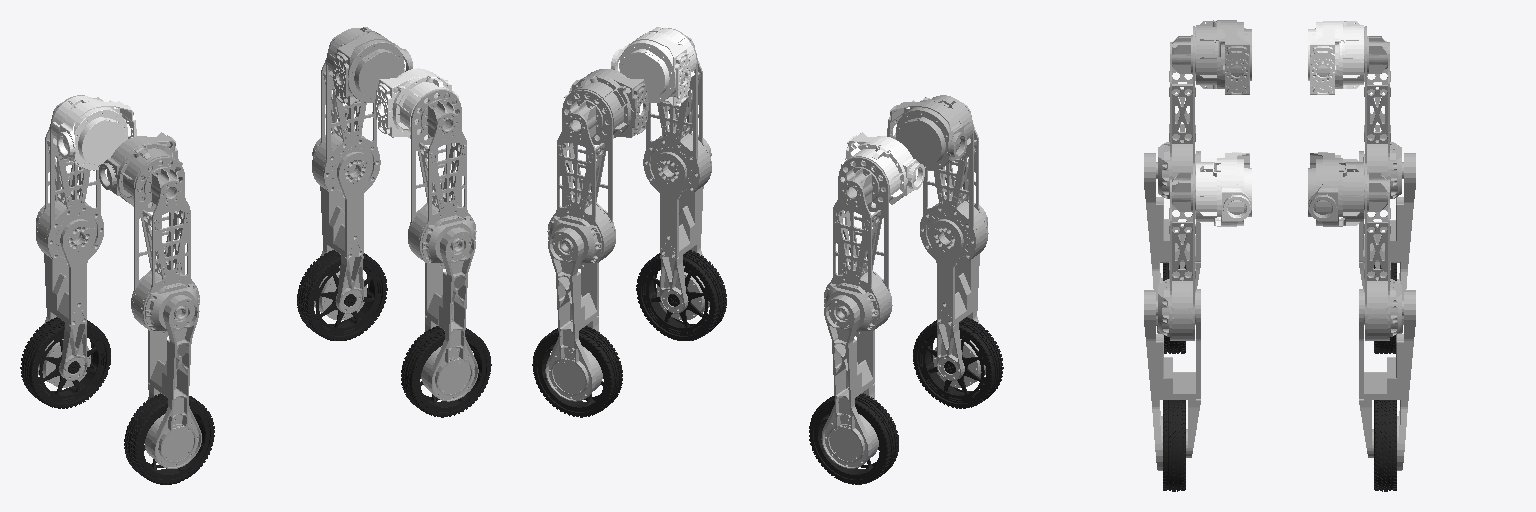
robot.urdf — y1v1h_description:
<?xml version="1.0" ?>
<!-- =================================================================================== -->
<!-- |    This document was autogenerated by xacro from src/robot_descriptions/y1v1h_description/xacro/robot.xacro | -->
<!-- |    EDITING THIS FILE BY HAND IS NOT RECOMMENDED                                 | -->
<!-- =================================================================================== -->
<robot name="y1v1h_description">

  <material name="black">
    <color rgba="0.19607843137254902 0.19607843137254902 0.19607843137254902 1.0"/>
  </material>
  <material name="blue">
    <color rgba="0.0 0.0 0.8 1.0"/>
  </material>
  <material name="green">
    <color rgba="0.0 0.8 0.0 1.0"/>
  </material>
  <material name="grey">
    <color rgba="0.2 0.2 0.2 1.0"/>
  </material>
  <material name="silver">
    <color rgba="0.9137254901960784 0.9137254901960784 0.8470588235294118 1.0"/>
  </material>
  <material name="orange">
    <color rgba="1.0 0.4235294117647059 0.0392156862745098 1.0"/>
  </material>
  <material name="brown">
    <color rgba="0.8705882352941177 0.8117647058823529 0.7647058823529411 1.0"/>
  </material>
  <material name="red">
    <color rgba="0.8 0.0 0.0 1.0"/>
  </material>
  <material name="white">
    <color rgba="1.0 1.0 1.0 1.0"/>
  </material>
  <link name="base_link">
    <visual>
      <origin rpy="0 0 0" xyz="0 0 0"/>
      <geometry>
        <box size="0.001 0.001 0.001"/>
      </geometry>
    </visual>
    <inertial>
      <mass value="0.001"/>
      <origin rpy="0 0 0" xyz="0 0 0"/>
      <inertia ixx="0.0001" ixy="0" ixz="0" iyy="0.0001" iyz="0" izz="0.0001"/>
    </inertial>
  </link>
  <joint name="F_base_joint" type="fixed">
    <origin rpy="0 0 0" xyz="0.293 0 0"/>
    <parent link="base_link"/>
    <child link="F_base_link"/>
  </joint>
  <joint name="R_base_joint" type="fixed">
    <origin rpy="0 0 3.14" xyz="-0.293 0 0"/>
    <parent link="base_link"/>
    <child link="R_base_link"/>
  </joint>
  <link name="imu_link">
    <inertial>
      <mass value="0.001"/>
      <origin rpy="0 0 0" xyz="0 0 0"/>
      <inertia ixx="0.0001" ixy="0" ixz="0" iyy="0.0001" iyz="0" izz="0.0001"/>
    </inertial>
    <visual>
      <origin rpy="0 0 0" xyz="0 0 0"/>
      <geometry>
        <box size="0.001 0.001 0.001"/>
      </geometry>
      <material name="red"/>
    </visual>
    <collision>
      <origin rpy="0 0 0" xyz="0 0 0"/>
      <geometry>
        <box size=".001 .001 .001"/>
      </geometry>
    </collision>
  </link>
  <joint name="imu_joint" type="fixed">
    <parent link="base_link"/>
    <child link="imu_link"/>
    <origin rpy="0 0 0" xyz="0 0 0"/>
  </joint>
  <link name="F_base_link">
    <inertial>
      <origin rpy="0 0 0" xyz="-0.132928 -0.002243 0.006096"/>
      <mass value="9.200903"/>
      <inertia ixx="0.059008" ixy="-0.000473" ixz="-0.001111" iyy="0.092941" iyz="-0.000367" izz="0.118639"/>
    </inertial>
    <visual>
      <origin rpy="0 0 0" xyz="0 0 0"/>
      <geometry>
        <mesh filename="../meshes/base_link.STL"/>
      </geometry>
      <material name="silver"/>
    </visual>
    <collision>
      <origin rpy="0 0 0" xyz="-0.107 0 0"/>
      <geometry>
        <box size="0.38 0.17 0.16"/>
      </geometry>
    </collision>
  </link>
  <link name="FL_hip">
    <inertial>
      <origin rpy="0 0 0" xyz="0.007629 0.000131 -0.000427"/>
      <mass value="1.850438"/>
      <inertia ixx="0.003608" ixy="-5e-06" ixz="-4e-06" iyy="0.002757" iyz="-1e-05" izz="0.002446"/>
    </inertial>
    <visual>
      <origin rpy="0 0 0" xyz="0 0 0"/>
      <geometry>
        <mesh filename="../meshes/L_hip.STL"/>
      </geometry>
      <material name="">
        <color rgba="0.75294 0.75294 0.75294 1"/>
      </material>
    </visual>
  </link>
  <joint name="FL_hip_joint" type="revolute">
    <origin rpy="1.5708 0 1.5708" xyz="0 0.0775 0"/>
    <parent link="F_base_link"/>
    <child link="FL_hip"/>
    <axis xyz="0 0 1"/>
    <dynamics damping="0" friction="0"/>
    <limit effort="80" lower="-0.785" upper="0.785" velocity="20"/>
  </joint>
  <link name="FL_thigh">
    <inertial>
      <origin rpy="0 0 0" xyz="0.185288 -2.9e-05 0.002007"/>
      <mass value="2.069782"/>
      <inertia ixx="0.002556" ixy="-3.8e-05" ixz="-0.001812" iyy="0.01764" iyz="-6e-06" izz="0.018364"/>
    </inertial>
    <visual>
      <origin rpy="0 0 0" xyz="0 0 0"/>
      <geometry>
        <mesh filename="../meshes/L_thigh.STL"/>
      </geometry>
      <material name="">
        <color rgba="0.75294 0.75294 0.75294 1"/>
      </material>
    </visual>
    <collision>
      <origin rpy="0 0 0" xyz="0.1 0 0"/>
      <geometry>
        <box size="0.2 0.1 0.045"/>
      </geometry>
    </collision>
    <collision>
      <origin rpy="0 0 0" xyz="0.23 0 0"/>
      <geometry>
        <cylinder length="0.045" radius="0.06"/>
      </geometry>
    </collision>
  </link>
  <joint name="FL_thigh_joint" type="revolute">
    <origin rpy="-1.5708 0 -1.5708" xyz="0.09835 0 0"/>
    <parent link="FL_hip"/>
    <child link="FL_thigh"/>
    <axis xyz="0 0 1"/>
    <dynamics damping="0" friction="0"/>
    <limit effort="80" lower="-2.618" upper="2.618" velocity="20"/>
  </joint>
  <link name="FL_calf">
    <inertial>
      <origin rpy="0 0 0" xyz="0.189393 2.5e-05 0.017355"/>
      <mass value="1.226823"/>
      <inertia ixx="0.001392" ixy="-3e-06" ixz="-0.000156" iyy="0.014383" iyz="-1e-06" izz="0.01407"/>
    </inertial>
    <visual>
      <origin rpy="0 0 0" xyz="0 0 0"/>
      <geometry>
        <mesh filename="../meshes/L_calf.STL"/>
      </geometry>
      <material name="">
        <color rgba="0.75294 0.75294 0.75294 1"/>
      </material>
    </visual>
    <collision>
      <origin rpy="0 0 0" xyz="0.12 0 0.015"/>
      <geometry>
        <box size="0.12 0.035 0.095"/>
      </geometry>
    </collision>
  </link>
  <joint name="FL_calf_joint" type="revolute">
    <origin rpy="0 0 0" xyz="0.23 0 0"/>
    <parent link="FL_thigh"/>
    <child link="FL_calf"/>
    <axis xyz="0 0 1"/>
    <dynamics damping="0" friction="0"/>
    <limit effort="80" lower="-2.705" upper="2.705" velocity="20"/>
  </joint>
  <link name="FL_foot">
    <inertial>
      <origin rpy="0 0 0" xyz="1.9e-05 -1e-05 -0.002748"/>
      <mass value="0.632662"/>
      <inertia ixx="0.001715" ixy="0.0" ixz="0.0" iyy="0.001715" iyz="0.0" izz="0.003235"/>
    </inertial>
    <visual>
      <origin rpy="0 0 0" xyz="0 0 0"/>
      <geometry>
        <mesh filename="../meshes/L_foot.STL"/>
      </geometry>
      <material name="black"/>
    </visual>
    <collision>
      <origin rpy="0 0 0" xyz="0 0 0"/>
      <geometry>
        <cylinder length="0.04" radius="0.085"/>
      </geometry>
    </collision>
  </link>
  <joint name="FL_foot_joint" type="revolute">
    <origin rpy="0 0 0" xyz="0.27 0 0.015"/>
    <parent link="FL_calf"/>
    <child link="FL_foot"/>
    <axis xyz="0 0 1"/>
    <dynamics damping="0" friction="0"/>
    <limit effort="20" lower="-1000000.0" upper="1000000.0" velocity="20.0"/>
  </joint>
  <link name="FR_hip">
    <inertial>
      <origin rpy="0 0 0" xyz="-0.007629 0.000131 -0.000427"/>
      <mass value="1.850439"/>
      <inertia ixx="0.003608" ixy="5e-06" ixz="4e-06" iyy="0.002757" iyz="-1e-05" izz="0.002446"/>
    </inertial>
    <visual>
      <origin rpy="0 0 0" xyz="0 0 0"/>
      <geometry>
        <mesh filename="../meshes/R_hip.STL"/>
      </geometry>
      <material name="">
        <color rgba="1 1 1 1"/>
      </material>
    </visual>
  </link>
  <joint name="FR_hip_joint" type="revolute">
    <origin rpy="1.5708 0 1.5708" xyz="0 -0.0775 0"/>
    <parent link="F_base_link"/>
    <child link="FR_hip"/>
    <axis xyz="0 0 1"/>
    <dynamics damping="0" friction="0"/>
    <limit effort="80" lower="-0.785" upper="0.785" velocity="20"/>
  </joint>
  <link name="FR_thigh">
    <inertial>
      <origin rpy="0 0 0" xyz="0.185287 -2.9e-05 -0.002007"/>
      <mass value="2.069785"/>
      <inertia ixx="0.002556" ixy="-3.8e-05" ixz="0.001812" iyy="0.017641" iyz="6e-06" izz="0.018365"/>
    </inertial>
    <visual>
      <origin rpy="0 0 0" xyz="0 0 0"/>
      <geometry>
        <mesh filename="../meshes/R_thigh.STL"/>
      </geometry>
      <material name="">
        <color rgba="0.75294 0.75294 0.75294 1"/>
      </material>
    </visual>
    <collision>
      <origin rpy="0 0 0" xyz="0.1 0 0"/>
      <geometry>
        <box size="0.2 0.1 0.045"/>
      </geometry>
    </collision>
    <collision>
      <origin rpy="0 0 0" xyz="0.23 0 0"/>
      <geometry>
        <cylinder length="0.045" radius="0.06"/>
      </geometry>
    </collision>
  </link>
  <joint name="FR_thigh_joint" type="revolute">
    <origin rpy="-1.5708 0 -1.5708" xyz="-0.09835 0 0"/>
    <parent link="FR_hip"/>
    <child link="FR_thigh"/>
    <axis xyz="0 0 1"/>
    <dynamics damping="0" friction="0"/>
    <limit effort="80" lower="-2.618" upper="2.618" velocity="20"/>
  </joint>
  <link name="FR_calf">
    <inertial>
      <origin rpy="0 0 0" xyz="0.189393 2.5e-05 -0.017355"/>
      <mass value="1.226822"/>
      <inertia ixx="0.001392" ixy="-3e-06" ixz="0.000156" iyy="0.014383" iyz="1e-06" izz="0.01407"/>
    </inertial>
    <visual>
      <origin rpy="0 0 0" xyz="0 0 0"/>
      <geometry>
        <mesh filename="../meshes/R_calf.STL"/>
      </geometry>
      <material name="">
        <color rgba="0.75294 0.75294 0.75294 1"/>
      </material>
    </visual>
    <collision>
      <origin rpy="0 0 0" xyz="0.12 0 -0.015"/>
      <geometry>
        <box size="0.12 0.035 0.095"/>
      </geometry>
    </collision>
  </link>
  <joint name="FR_calf_joint" type="revolute">
    <origin rpy="0 0 0" xyz="0.23 0 0"/>
    <parent link="FR_thigh"/>
    <child link="FR_calf"/>
    <axis xyz="0 0 1"/>
    <dynamics damping="0" friction="0"/>
    <limit effort="80" lower="-2.705" upper="2.705" velocity="20"/>
  </joint>
  <link name="FR_foot">
    <inertial>
      <origin rpy="0 0 0" xyz="1.9e-05 -1e-05 0.002748"/>
      <mass value="0.632667"/>
      <inertia ixx="0.001715" ixy="0.0" ixz="0.0" iyy="0.001715" iyz="0.0" izz="0.003235"/>
    </inertial>
    <visual>
      <origin rpy="0 0 0" xyz="0 0 0"/>
      <geometry>
        <mesh filename="../meshes/R_foot.STL"/>
      </geometry>
      <material name="black"/>
    </visual>
    <collision>
      <origin rpy="0 0 0" xyz="0 0 0"/>
      <geometry>
        <cylinder length="0.04" radius="0.085"/>
      </geometry>
    </collision>
  </link>
  <joint name="FR_foot_joint" type="revolute">
    <origin rpy="0 0 0" xyz="0.27 0 -0.015"/>
    <parent link="FR_calf"/>
    <child link="FR_foot"/>
    <axis xyz="0 0 1"/>
    <dynamics damping="0" friction="0"/>
    <limit effort="20" lower="-1000000.0" upper="1000000.0" velocity="20.0"/>
  </joint>
  <link name="R_base_link">
    <inertial>
      <origin rpy="0 0 0" xyz="-0.132928 -0.002243 0.006096"/>
      <mass value="9.200903"/>
      <inertia ixx="0.059008" ixy="-0.000473" ixz="-0.001111" iyy="0.092941" iyz="-0.000367" izz="0.118639"/>
    </inertial>
    <visual>
      <origin rpy="0 0 0" xyz="0 0 0"/>
      <geometry>
        <mesh filename="../meshes/base_link.STL"/>
      </geometry>
      <material name="silver"/>
    </visual>
    <collision>
      <origin rpy="0 0 0" xyz="-0.107 0 0"/>
      <geometry>
        <box size="0.38 0.17 0.16"/>
      </geometry>
    </collision>
  </link>
  <link name="RL_hip">
    <inertial>
      <origin rpy="0 0 0" xyz="0.007629 0.000131 -0.000427"/>
      <mass value="1.850438"/>
      <inertia ixx="0.003608" ixy="-5e-06" ixz="-4e-06" iyy="0.002757" iyz="-1e-05" izz="0.002446"/>
    </inertial>
    <visual>
      <origin rpy="0 0 0" xyz="0 0 0"/>
      <geometry>
        <mesh filename="../meshes/L_hip.STL"/>
      </geometry>
      <material name="">
        <color rgba="0.75294 0.75294 0.75294 1"/>
      </material>
    </visual>
  </link>
  <joint name="RL_hip_joint" type="revolute">
    <origin rpy="1.5708 0 1.5708" xyz="0 0.0775 0"/>
    <parent link="R_base_link"/>
    <child link="RL_hip"/>
    <axis xyz="0 0 1"/>
    <dynamics damping="0" friction="0"/>
    <limit effort="80" lower="-0.785" upper="0.785" velocity="20"/>
  </joint>
  <link name="RL_thigh">
    <inertial>
      <origin rpy="0 0 0" xyz="0.185288 -2.9e-05 0.002007"/>
      <mass value="2.069782"/>
      <inertia ixx="0.002556" ixy="-3.8e-05" ixz="-0.001812" iyy="0.01764" iyz="-6e-06" izz="0.018364"/>
    </inertial>
    <visual>
      <origin rpy="0 0 0" xyz="0 0 0"/>
      <geometry>
        <mesh filename="../meshes/L_thigh.STL"/>
      </geometry>
      <material name="">
        <color rgba="0.75294 0.75294 0.75294 1"/>
      </material>
    </visual>
    <collision>
      <origin rpy="0 0 0" xyz="0.1 0 0"/>
      <geometry>
        <box size="0.2 0.1 0.045"/>
      </geometry>
    </collision>
    <collision>
      <origin rpy="0 0 0" xyz="0.23 0 0"/>
      <geometry>
        <cylinder length="0.045" radius="0.06"/>
      </geometry>
    </collision>
  </link>
  <joint name="RL_thigh_joint" type="revolute">
    <origin rpy="-1.5708 0 -1.5708" xyz="0.09835 0 0"/>
    <parent link="RL_hip"/>
    <child link="RL_thigh"/>
    <axis xyz="0 0 1"/>
    <dynamics damping="0" friction="0"/>
    <limit effort="80" lower="-2.618" upper="2.618" velocity="20"/>
  </joint>
  <link name="RL_calf">
    <inertial>
      <origin rpy="0 0 0" xyz="0.189393 2.5e-05 0.017355"/>
      <mass value="1.226823"/>
      <inertia ixx="0.001392" ixy="-3e-06" ixz="-0.000156" iyy="0.014383" iyz="-1e-06" izz="0.01407"/>
    </inertial>
    <visual>
      <origin rpy="0 0 0" xyz="0 0 0"/>
      <geometry>
        <mesh filename="../meshes/L_calf.STL"/>
      </geometry>
      <material name="">
        <color rgba="0.75294 0.75294 0.75294 1"/>
      </material>
    </visual>
    <collision>
      <origin rpy="0 0 0" xyz="0.12 0 0.015"/>
      <geometry>
        <box size="0.12 0.035 0.095"/>
      </geometry>
    </collision>
  </link>
  <joint name="RL_calf_joint" type="revolute">
    <origin rpy="0 0 0" xyz="0.23 0 0"/>
    <parent link="RL_thigh"/>
    <child link="RL_calf"/>
    <axis xyz="0 0 1"/>
    <dynamics damping="0" friction="0"/>
    <limit effort="80" lower="-2.705" upper="2.705" velocity="20"/>
  </joint>
  <link name="RL_foot">
    <inertial>
      <origin rpy="0 0 0" xyz="1.9e-05 -1e-05 -0.002748"/>
      <mass value="0.632662"/>
      <inertia ixx="0.001715" ixy="0.0" ixz="0.0" iyy="0.001715" iyz="0.0" izz="0.003235"/>
    </inertial>
    <visual>
      <origin rpy="0 0 0" xyz="0 0 0"/>
      <geometry>
        <mesh filename="../meshes/L_foot.STL"/>
      </geometry>
      <material name="black"/>
    </visual>
    <collision>
      <origin rpy="0 0 0" xyz="0 0 0"/>
      <geometry>
        <cylinder length="0.04" radius="0.085"/>
      </geometry>
    </collision>
  </link>
  <joint name="RL_foot_joint" type="revolute">
    <origin rpy="0 0 0" xyz="0.27 0 0.015"/>
    <parent link="RL_calf"/>
    <child link="RL_foot"/>
    <axis xyz="0 0 1"/>
    <dynamics damping="0" friction="0"/>
    <limit effort="20" lower="-1000000.0" upper="1000000.0" velocity="20.0"/>
  </joint>
  <link name="RR_hip">
    <inertial>
      <origin rpy="0 0 0" xyz="-0.007629 0.000131 -0.000427"/>
      <mass value="1.850439"/>
      <inertia ixx="0.003608" ixy="5e-06" ixz="4e-06" iyy="0.002757" iyz="-1e-05" izz="0.002446"/>
    </inertial>
    <visual>
      <origin rpy="0 0 0" xyz="0 0 0"/>
      <geometry>
        <mesh filename="../meshes/R_hip.STL"/>
      </geometry>
      <material name="">
        <color rgba="1 1 1 1"/>
      </material>
    </visual>
  </link>
  <joint name="RR_hip_joint" type="revolute">
    <origin rpy="1.5708 0 1.5708" xyz="0 -0.0775 0"/>
    <parent link="R_base_link"/>
    <child link="RR_hip"/>
    <axis xyz="0 0 1"/>
    <dynamics damping="0" friction="0"/>
    <limit effort="80" lower="-0.785" upper="0.785" velocity="20"/>
  </joint>
  <link name="RR_thigh">
    <inertial>
      <origin rpy="0 0 0" xyz="0.185287 -2.9e-05 -0.002007"/>
      <mass value="2.069785"/>
      <inertia ixx="0.002556" ixy="-3.8e-05" ixz="0.001812" iyy="0.017641" iyz="6e-06" izz="0.018365"/>
    </inertial>
    <visual>
      <origin rpy="0 0 0" xyz="0 0 0"/>
      <geometry>
        <mesh filename="../meshes/R_thigh.STL"/>
      </geometry>
      <material name="">
        <color rgba="0.75294 0.75294 0.75294 1"/>
      </material>
    </visual>
    <collision>
      <origin rpy="0 0 0" xyz="0.1 0 0"/>
      <geometry>
        <box size="0.2 0.1 0.045"/>
      </geometry>
    </collision>
    <collision>
      <origin rpy="0 0 0" xyz="0.23 0 0"/>
      <geometry>
        <cylinder length="0.045" radius="0.06"/>
      </geometry>
    </collision>
  </link>
  <joint name="RR_thigh_joint" type="revolute">
    <origin rpy="-1.5708 0 -1.5708" xyz="-0.09835 0 0"/>
    <parent link="RR_hip"/>
    <child link="RR_thigh"/>
    <axis xyz="0 0 1"/>
    <dynamics damping="0" friction="0"/>
    <limit effort="80" lower="-2.618" upper="2.618" velocity="20"/>
  </joint>
  <link name="RR_calf">
    <inertial>
      <origin rpy="0 0 0" xyz="0.189393 2.5e-05 -0.017355"/>
      <mass value="1.226822"/>
      <inertia ixx="0.001392" ixy="-3e-06" ixz="0.000156" iyy="0.014383" iyz="1e-06" izz="0.01407"/>
    </inertial>
    <visual>
      <origin rpy="0 0 0" xyz="0 0 0"/>
      <geometry>
        <mesh filename="../meshes/R_calf.STL"/>
      </geometry>
      <material name="">
        <color rgba="0.75294 0.75294 0.75294 1"/>
      </material>
    </visual>
    <collision>
      <origin rpy="0 0 0" xyz="0.12 0 -0.015"/>
      <geometry>
        <box size="0.12 0.035 0.095"/>
      </geometry>
    </collision>
  </link>
  <joint name="RR_calf_joint" type="revolute">
    <origin rpy="0 0 0" xyz="0.23 0 0"/>
    <parent link="RR_thigh"/>
    <child link="RR_calf"/>
    <axis xyz="0 0 1"/>
    <dynamics damping="0" friction="0"/>
    <limit effort="80" lower="-2.705" upper="2.705" velocity="20"/>
  </joint>
  <link name="RR_foot">
    <inertial>
      <origin rpy="0 0 0" xyz="1.9e-05 -1e-05 0.002748"/>
      <mass value="0.632667"/>
      <inertia ixx="0.001715" ixy="0.0" ixz="0.0" iyy="0.001715" iyz="0.0" izz="0.003235"/>
    </inertial>
    <visual>
      <origin rpy="0 0 0" xyz="0 0 0"/>
      <geometry>
        <mesh filename="../meshes/R_foot.STL"/>
      </geometry>
      <material name="black"/>
    </visual>
    <collision>
      <origin rpy="0 0 0" xyz="0 0 0"/>
      <geometry>
        <cylinder length="0.04" radius="0.085"/>
      </geometry>
    </collision>
  </link>
  <joint name="RR_foot_joint" type="revolute">
    <origin rpy="0 0 0" xyz="0.27 0 -0.015"/>
    <parent link="RR_calf"/>
    <child link="RR_foot"/>
    <axis xyz="0 0 1"/>
    <dynamics damping="0" friction="0"/>
    <limit effort="20" lower="-1000000.0" upper="1000000.0" velocity="20.0"/>
  </joint>
</robot>

--- Render facts (derived) ---
The picture shows the robot from 3 angles, left to right: view 1: azimuth 30°, elevation 25°; view 2: azimuth 150°, elevation 25°; view 3: azimuth 270°, elevation 25°; orthographic projection.
Model y1v1h_description with 20 links and 19 joints (16 revolute, 3 fixed), rooted at base_link, posed every joint at zero.
Visible links, largest first — view 1: RL_thigh, FR_thigh, RL_calf, FR_calf, FL_calf, RR_calf, RR_thigh, RR_hip, FL_thigh, FL_hip, FL_foot, RR_foot (+4 smaller); view 2: RR_thigh, FL_thigh, FL_calf, RR_calf, FR_calf, RL_calf, RL_hip, RL_thigh, FR_thigh, FR_hip, FR_foot, RL_foot (+4 smaller); view 3: FL_thigh, FR_thigh, FR_calf, FL_calf, RL_thigh, RR_thigh, RL_hip, FL_hip, FR_hip, RR_hip, RL_calf, RR_calf (+2 smaller).
Link boxes in pixels (x1,y1,x2,y2): RL_thigh: (131, 157, 199, 336); FR_thigh: (408, 90, 476, 268); RL_calf: (144, 295, 201, 468); FR_calf: (421, 227, 478, 401); FL_calf: (312, 135, 371, 320); RR_calf: (36, 203, 94, 387); RR_thigh: (36, 95, 103, 265); RR_hip: (51, 96, 136, 170); FL_thigh: (312, 28, 380, 198); FL_hip: (327, 27, 412, 106); FL_foot: (297, 250, 387, 340); RR_foot: (20, 317, 110, 408); RR_thigh: (824, 157, 892, 336); FL_thigh: (547, 90, 615, 268); FL_calf: (545, 227, 602, 401); RR_calf: (821, 295, 878, 468); FR_calf: (652, 135, 711, 319); RL_calf: (929, 203, 987, 387); RL_hip: (887, 96, 972, 170); RL_thigh: (920, 95, 988, 266); FR_thigh: (643, 28, 711, 198); FR_hip: (611, 27, 696, 106); FR_foot: (636, 250, 726, 340); RL_foot: (913, 317, 1003, 408); FL_thigh: (1364, 163, 1403, 340); FR_thigh: (1156, 163, 1195, 340); FR_calf: (1144, 289, 1200, 470); FL_calf: (1359, 289, 1415, 470); RL_thigh: (1156, 26, 1195, 198); RR_thigh: (1364, 26, 1403, 198); RL_hip: (1196, 20, 1251, 94); FL_hip: (1308, 152, 1363, 226); FR_hip: (1196, 152, 1251, 226); RR_hip: (1308, 21, 1363, 94); RL_calf: (1144, 151, 1200, 333); RR_calf: (1359, 151, 1415, 333).
Size in the robot's own frame: 0.7583 by 0.4895 by 0.648 metres.
16 mesh visuals loaded from 9 distinct referenced files (8 binary STL); not drawn: 2 (reference not matched to a file when rendering).
